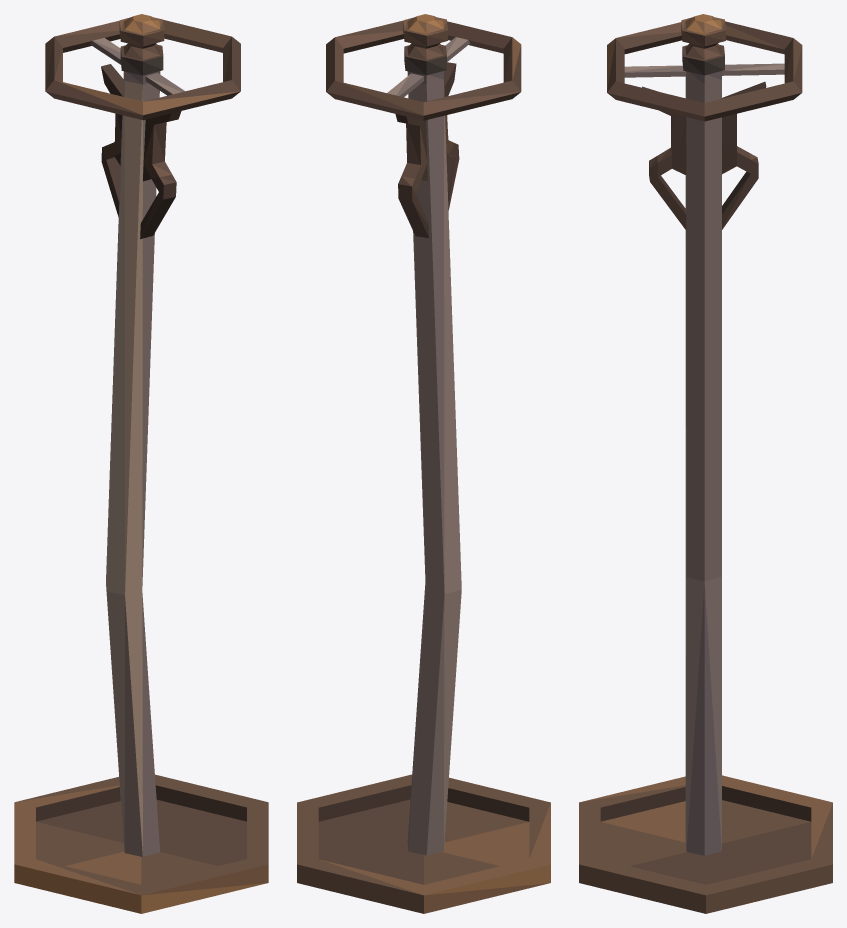
File: umbrella_holder.fbx
3 views of the same model, side by side, from view 1: azimuth 30°, elevation 25°; view 2: azimuth 150°, elevation 25°; view 3: azimuth 270°, elevation 25° (orthographic).
Visible parts, largest first — view 1: umbrella_holder; view 2: umbrella_holder; view 3: umbrella_holder.
Part boxes in pixels (x1=…): umbrella_holder: x1=14, y1=14, x2=268, y2=913; umbrella_holder: x1=297, y1=14, x2=550, y2=913; umbrella_holder: x1=579, y1=14, x2=832, y2=913.
Size of the model in its own units: 28.6 by 89.69 by 24.77.
